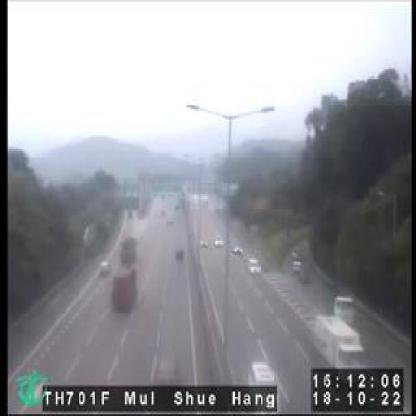Bus: (119, 236, 140, 269)
Car: (246, 360, 277, 394), (155, 350, 180, 385), (299, 267, 312, 284), (248, 256, 260, 274), (173, 246, 186, 262), (99, 259, 110, 274), (233, 244, 244, 256), (214, 234, 222, 246)
Truck: (312, 315, 363, 368), (111, 262, 138, 315), (334, 295, 356, 328)
